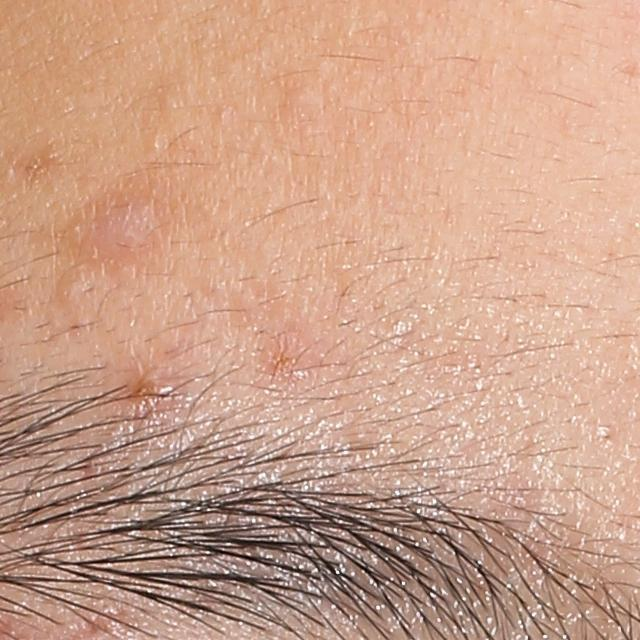comedo: (54, 277, 90, 305), (286, 84, 322, 112)
